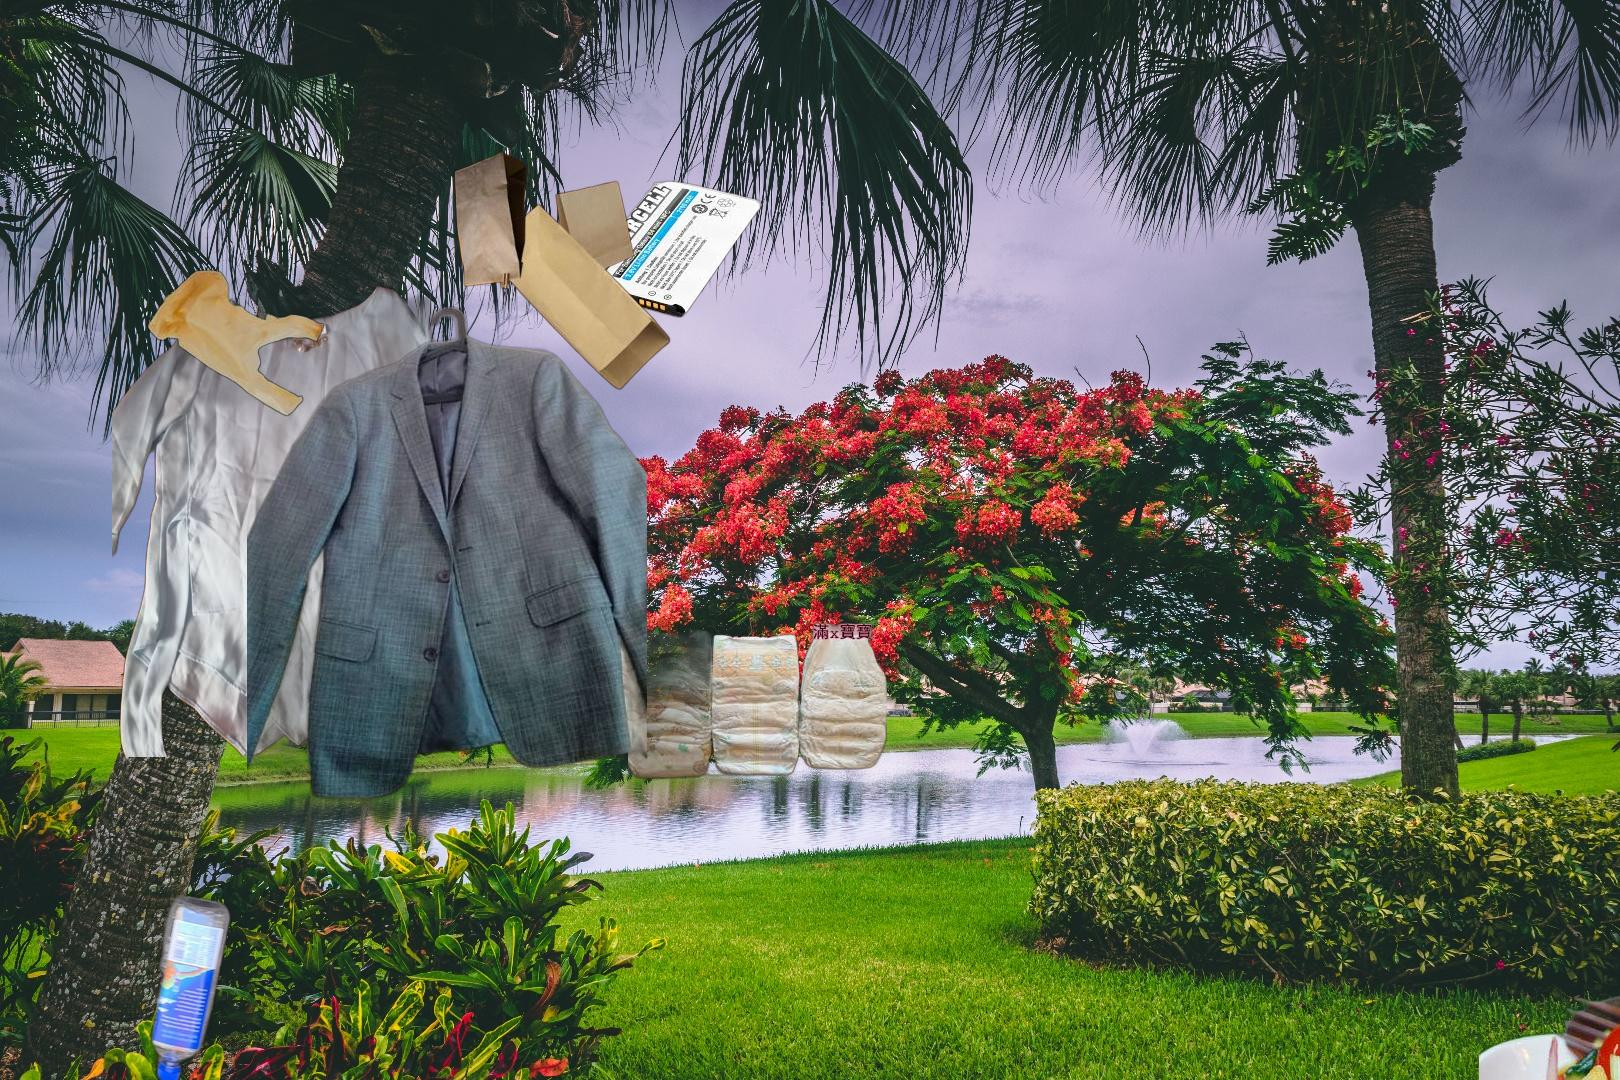battery: (541, 178, 765, 319)
biological: (1479, 937, 1620, 1080)
clothes: (247, 303, 647, 802), (112, 280, 512, 757)
paper-bag: (453, 149, 673, 391)
plastic-bag: (145, 268, 327, 419)
plastic-bottles: (148, 840, 235, 1080)
trash: (628, 591, 887, 785)
